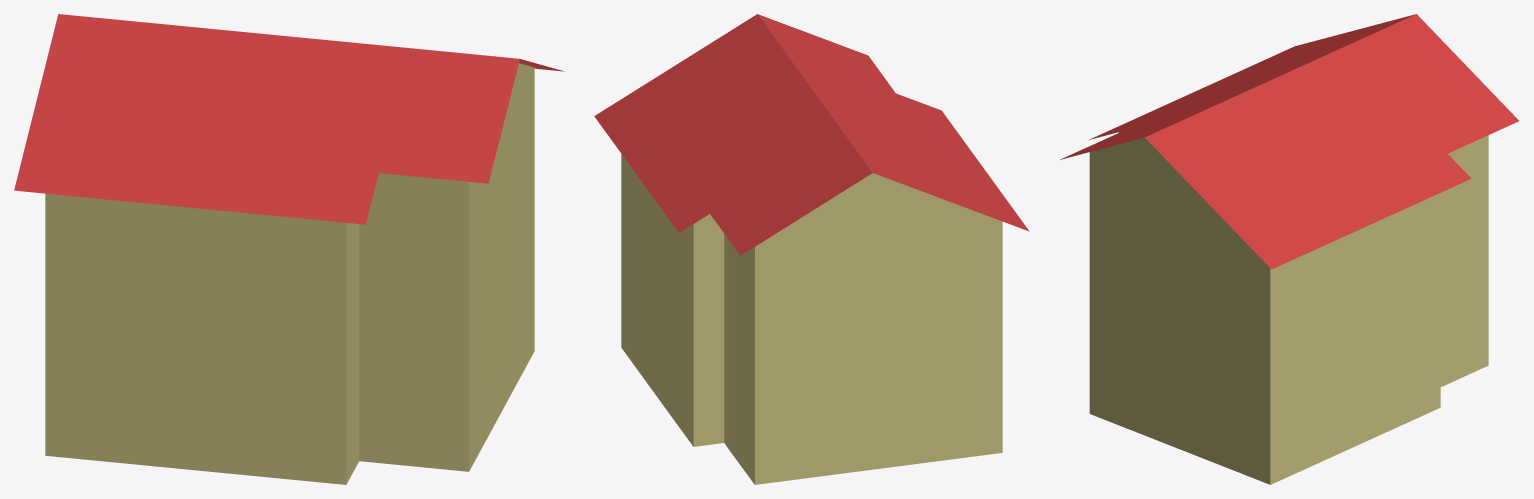
3 renders of one model, left to right at view 1: azimuth 30°, elevation 25°; view 2: azimuth 150°, elevation 25°; view 3: azimuth 270°, elevation 25°, orthographic. The views are drawn at different scales.
Bounding box in the file's own units: 17.87 × 15.73 × 11.7.
